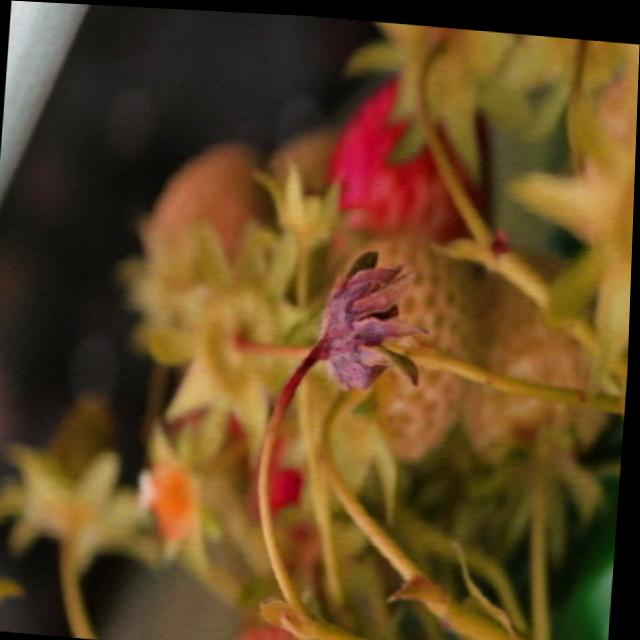Gray Mold: (297, 246, 431, 386)
